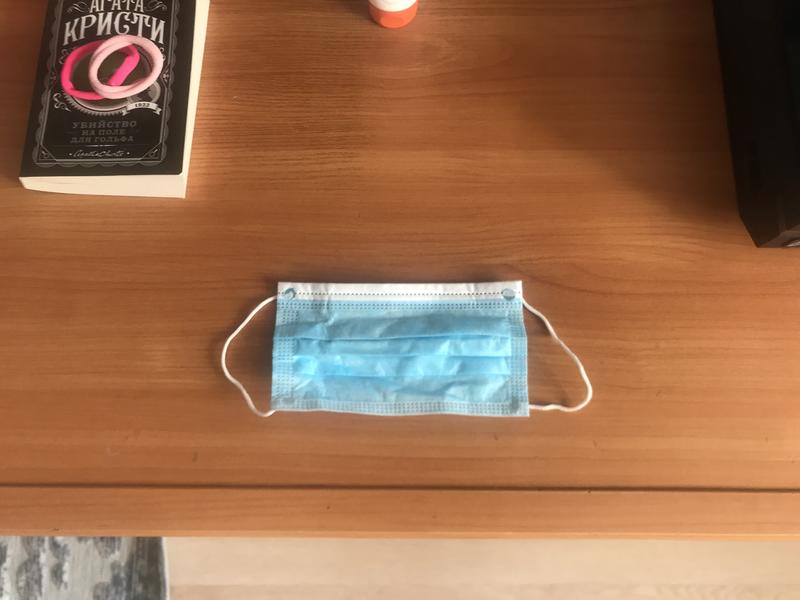medical_mask: (220, 283, 593, 418)
